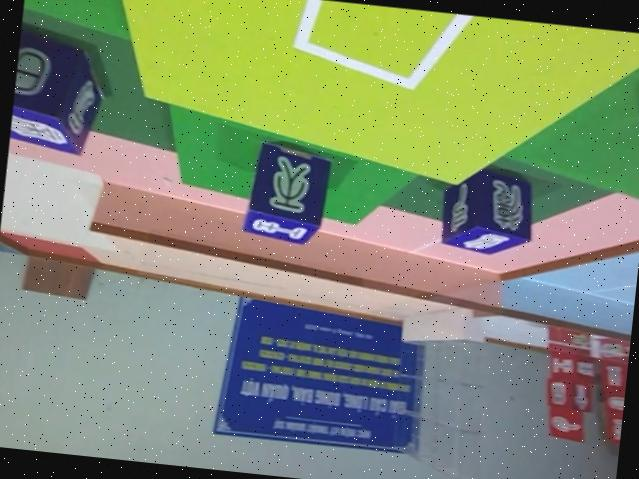R2 Fake Blue: (8, 17, 112, 154), (239, 139, 332, 247), (438, 162, 540, 258)
